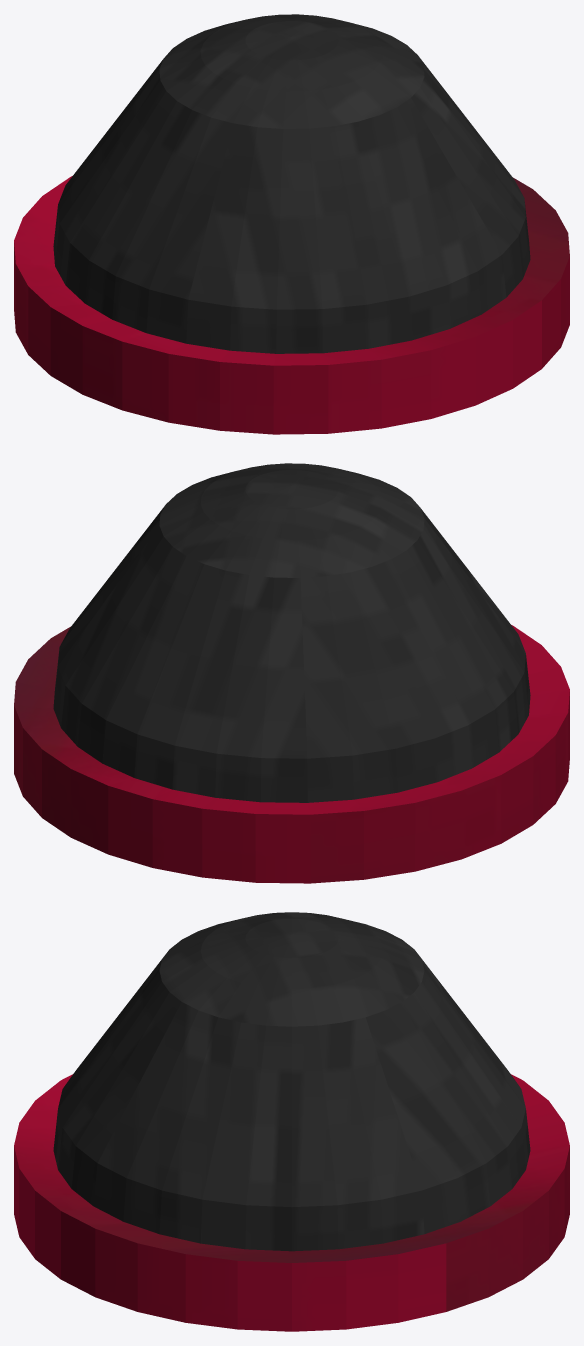
File: Lights.fbx
3 renders of one model, top to bottom at view 1: azimuth 30°, elevation 25°; view 2: azimuth 150°, elevation 25°; view 3: azimuth 270°, elevation 25°, orthographic.
Visible parts, largest first — view 1: Cone; view 2: Cone; view 3: Cone.
Boxes of the visible parts, left/top/right/bottom form: Cone: left=14, top=14, right=569, bottom=434; Cone: left=14, top=463, right=569, bottom=883; Cone: left=14, top=912, right=569, bottom=1331.
Bounding box in the file's own units: 31.13 × 17.3 × 31.13.
3 materials, 2 textured.
